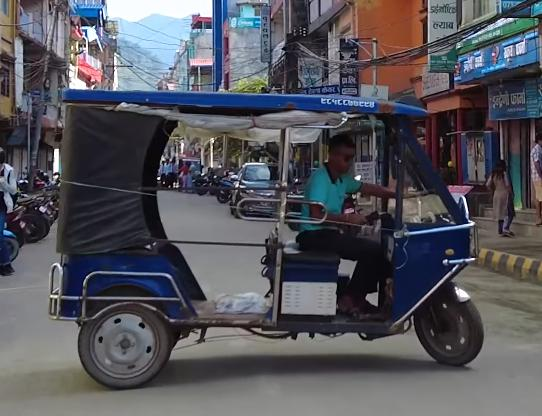car: (229, 158, 297, 215)
e-rickshaw: (50, 74, 485, 386)
